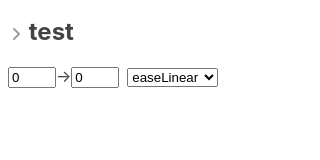
it: Options › click header once, then has component
The image size is (320, 160).
Click the heading "test" at (40, 31), box [6, 17, 74, 46]
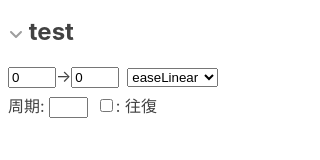
expect the element with test id "from-to-options" is shown: met, box [8, 96, 157, 118]
